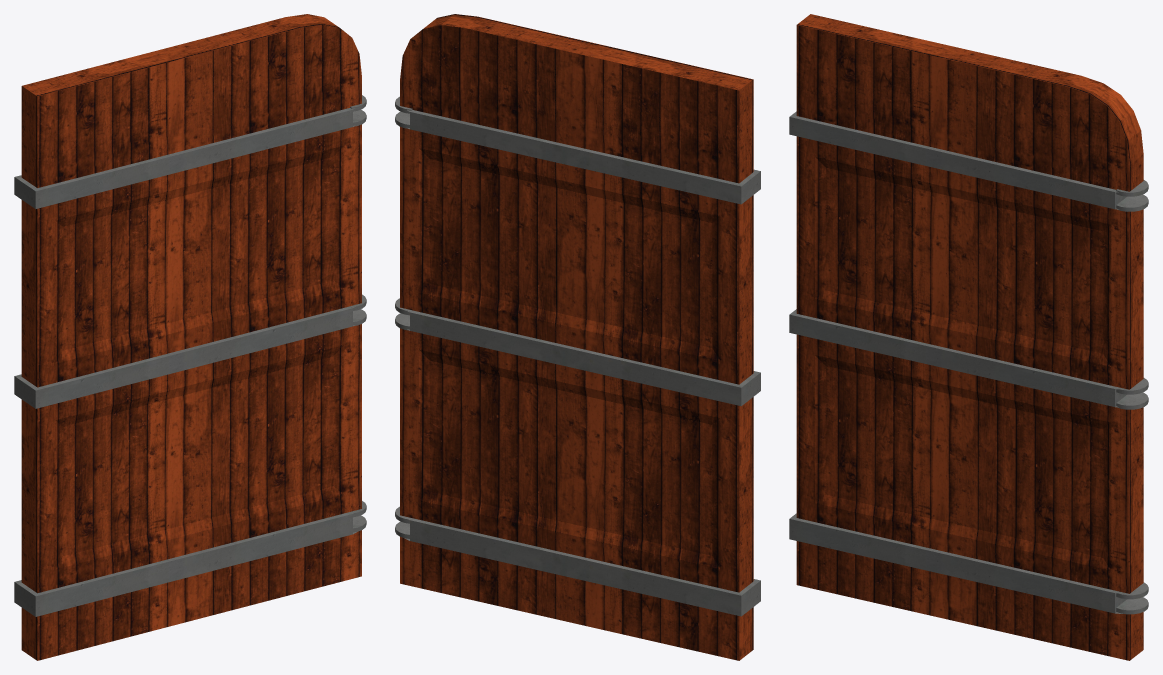
The model's file is Door_Left_vertical.obj.
3 renders of one model, left to right at view 1: azimuth 30°, elevation 25°; view 2: azimuth 150°, elevation 25°; view 3: azimuth 330°, elevation 25°, orthographic.
Visible parts, largest first — view 1: DoorLeft.001_DoorLeft.006_DoorLeft.001_DoorLeft.001; view 2: DoorLeft.001_DoorLeft.006_DoorLeft.001_DoorLeft.001; view 3: DoorLeft.001_DoorLeft.006_DoorLeft.001_DoorLeft.001.
Part boxes in pixels (bbox=[...]): DoorLeft.001_DoorLeft.006_DoorLeft.001_DoorLeft.001: bbox=[14, 14, 366, 660]; DoorLeft.001_DoorLeft.006_DoorLeft.001_DoorLeft.001: bbox=[395, 14, 760, 660]; DoorLeft.001_DoorLeft.006_DoorLeft.001_DoorLeft.001: bbox=[789, 14, 1148, 660].
Size of the model in its own units: 45.64 by 71.41 by 5.87.
